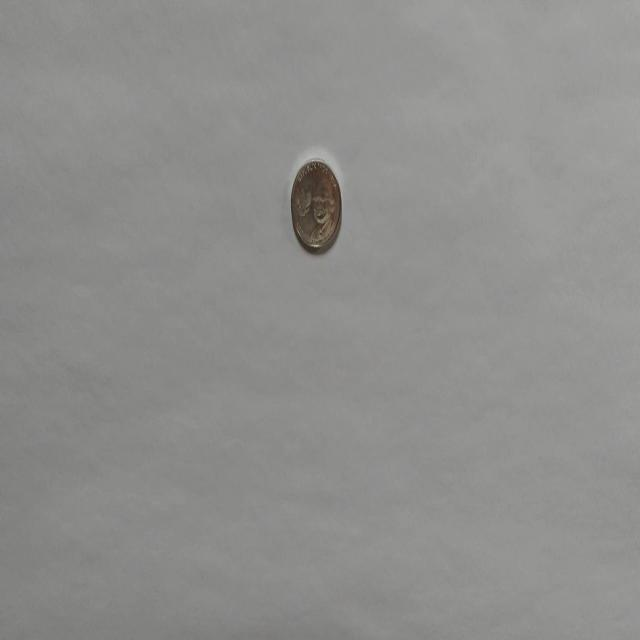lima ratus rupiah: (290, 158, 342, 254)
